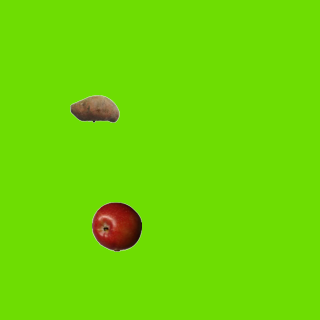Apple Braeburn: (91, 201, 141, 251)
Potato Sweet: (69, 83, 119, 133)
